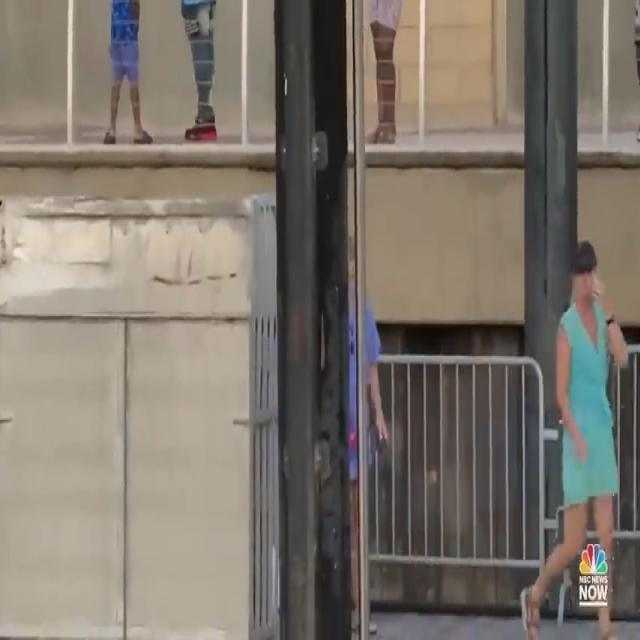non-fight: (516, 224, 630, 640)
